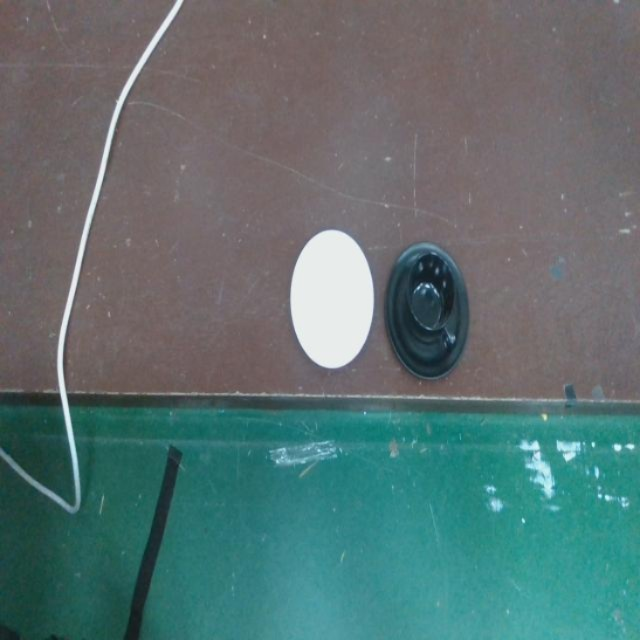black: (382, 234, 472, 384)
white: (288, 225, 375, 372)
